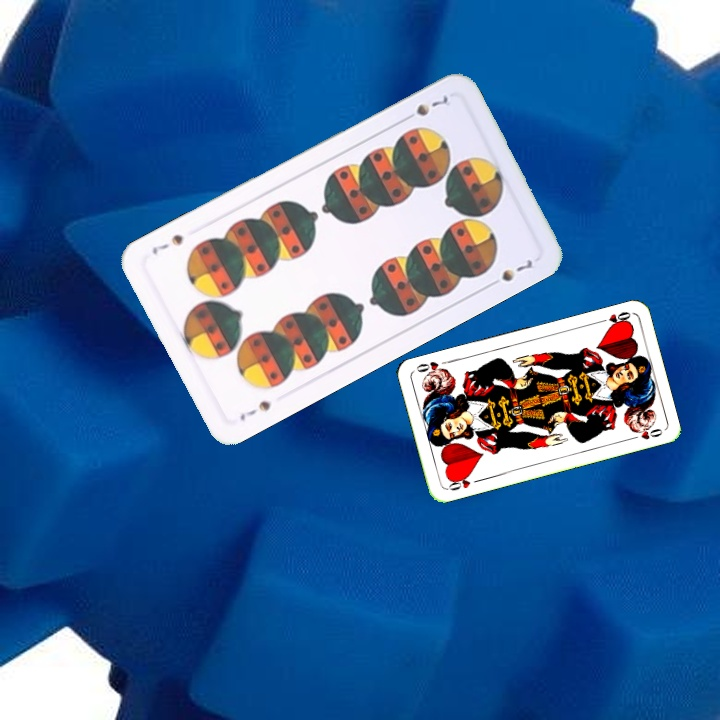HO: (443, 471, 483, 493), (593, 307, 633, 328)
S7: (399, 89, 454, 124), (235, 396, 274, 424)
